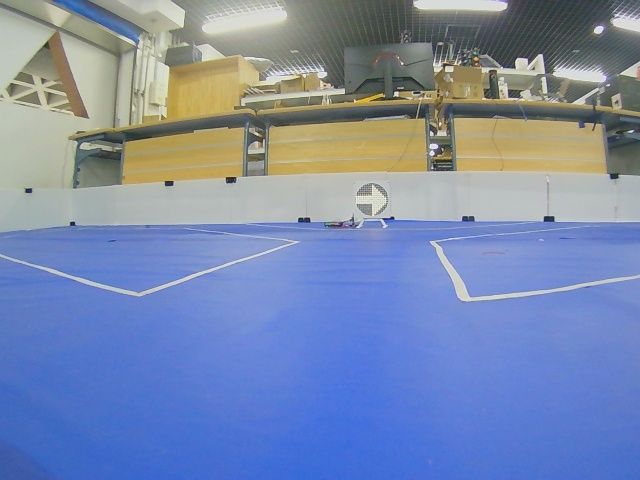right_yellow: (355, 183, 389, 216)
